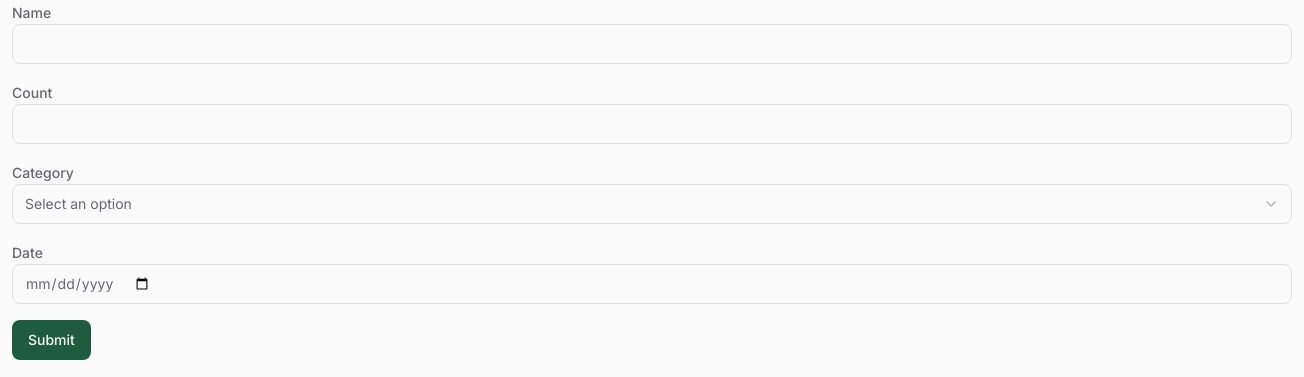
Test: forms foundation › SelectField renders all provided options
# open the combobox to see options
Step 1. Click the dropdown named "category" → (78, 204), box [12,184,1292,224]
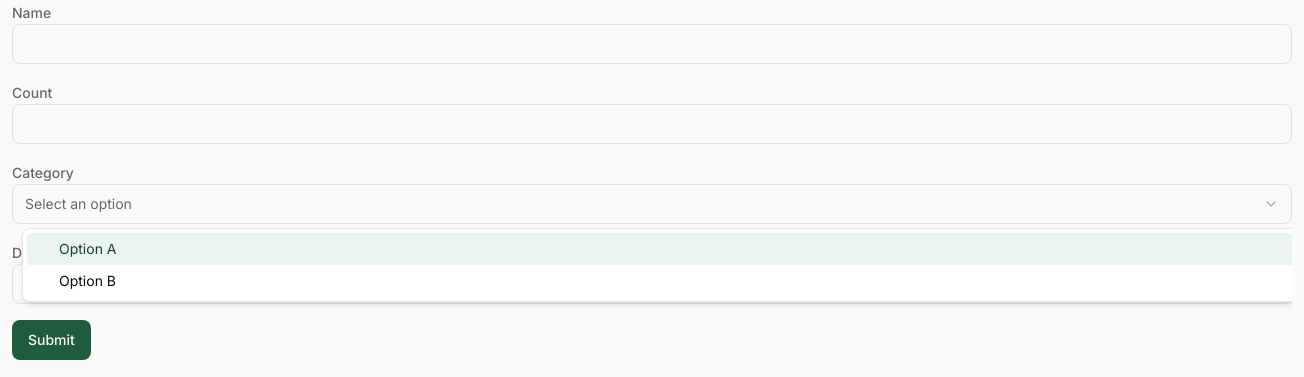
Check: the option "Option B" is shown, box [59,272,116,289]
